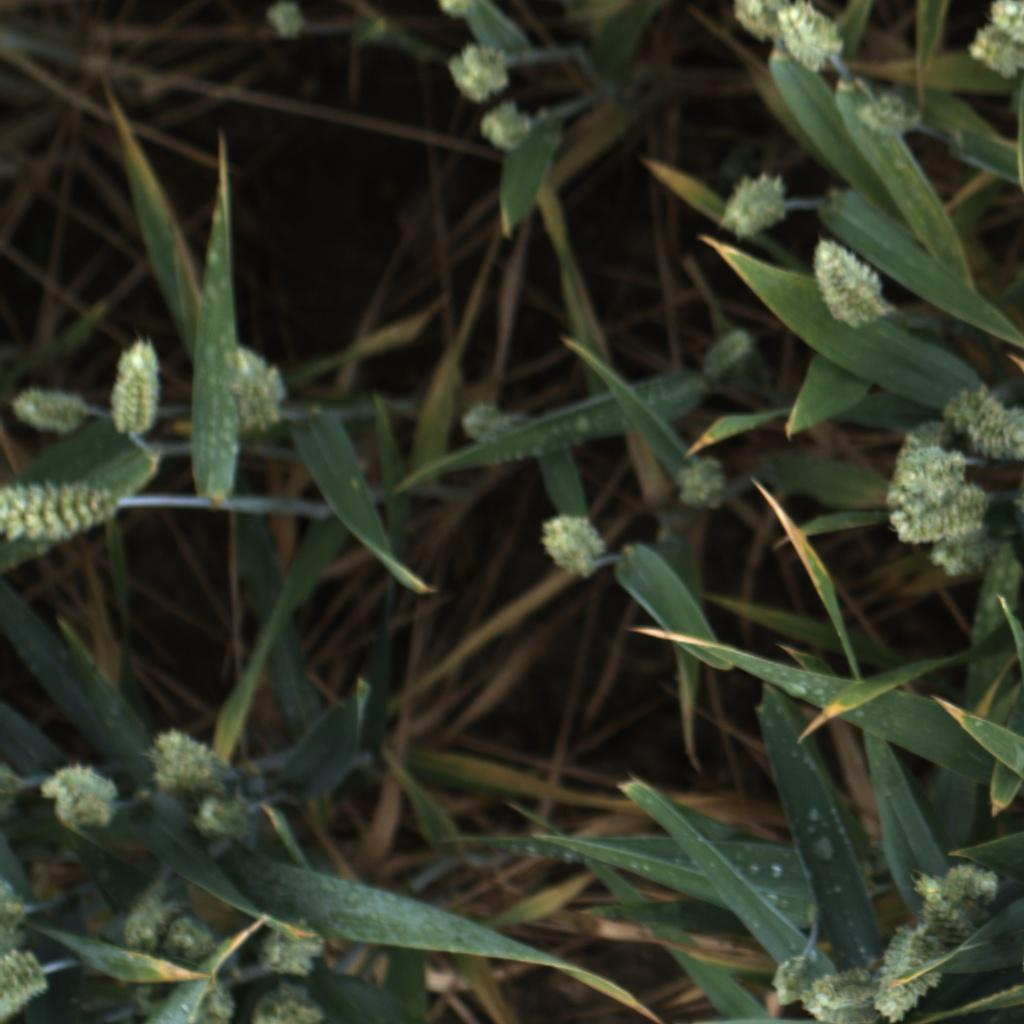0-0: (1, 466, 117, 550), (868, 926, 949, 1019), (810, 235, 888, 329), (219, 333, 292, 433), (102, 337, 171, 441), (888, 480, 996, 546), (143, 720, 233, 799), (914, 860, 998, 943), (40, 755, 125, 833), (751, 936, 828, 1014), (852, 81, 934, 153), (535, 511, 614, 584), (914, 871, 982, 953), (254, 909, 331, 980), (717, 168, 788, 244), (776, 0, 847, 73), (937, 372, 1003, 448), (0, 938, 59, 1021), (694, 315, 758, 391), (917, 531, 996, 592), (889, 431, 965, 494), (11, 380, 92, 438), (441, 40, 517, 101), (118, 876, 174, 956), (798, 970, 880, 1024), (669, 452, 733, 517), (476, 95, 538, 157), (448, 392, 517, 447), (965, 402, 1024, 464), (248, 982, 333, 1024), (965, 23, 1024, 80), (163, 910, 222, 967), (190, 798, 255, 847), (725, 0, 784, 46), (989, 0, 1024, 50), (424, 0, 494, 19)
